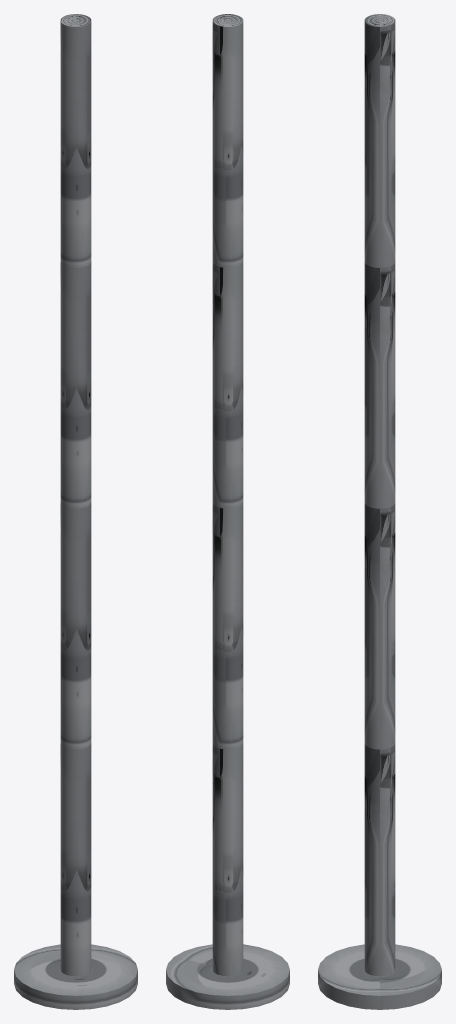
Rendered from reflector_poste.obj.
3 renders of one model, left to right at view 1: azimuth 90°, elevation 25°; view 2: azimuth 150°, elevation 25°; view 3: azimuth 270°, elevation 25°, orthographic.
Visible parts, largest first — view 1: poste; view 2: poste; view 3: poste.
Part boxes in pixels (<box>): poste: <box>14,14,137,1009</box>; poste: <box>166,14,289,1009</box>; poste: <box>318,14,441,1009</box>.
Bounding box in the file's own units: 0.28 × 2.4 × 0.28.
